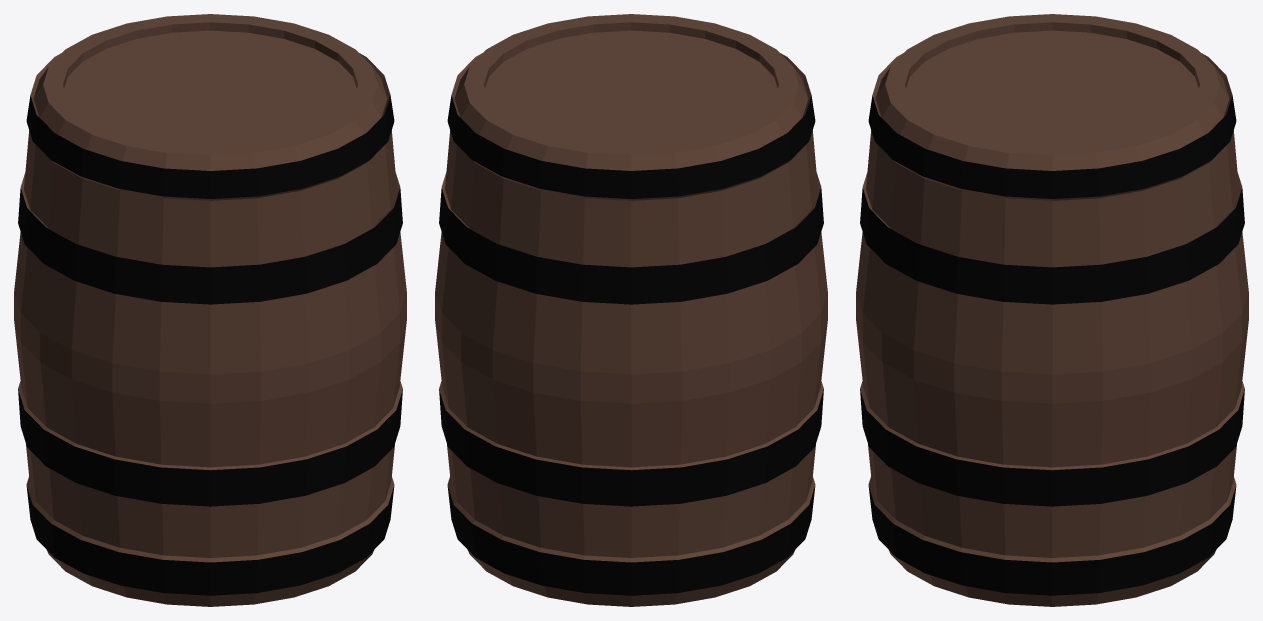
File: Barrel.fbx
3 views of the same model, side by side, from view 1: azimuth 30°, elevation 25°; view 2: azimuth 150°, elevation 25°; view 3: azimuth 270°, elevation 25° (orthographic).
Visible parts, largest first — view 1: Cylinder; view 2: Cylinder; view 3: Cylinder.
Boxes of the visible parts, x1=… form: Cylinder: x1=14, y1=14, x2=406, y2=606; Cylinder: x1=435, y1=14, x2=827, y2=606; Cylinder: x1=856, y1=14, x2=1248, y2=606.
Bounding box in the file's own units: 324 × 411 × 324.
